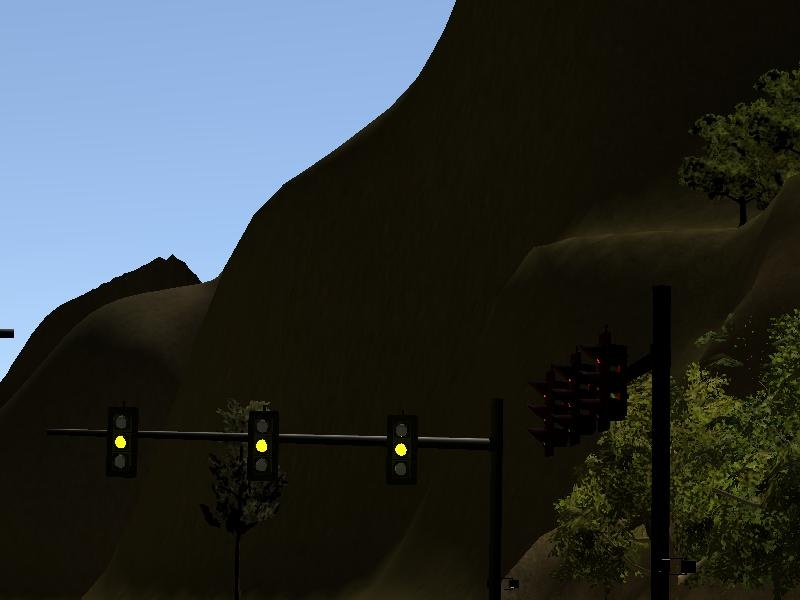yellow: (106, 405, 137, 478), (246, 409, 277, 482), (388, 413, 419, 486)
